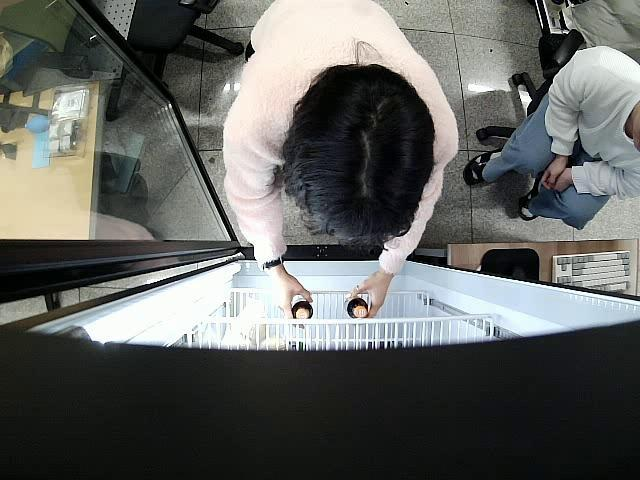17_vita500: (344, 296, 369, 318), (290, 298, 314, 320)
